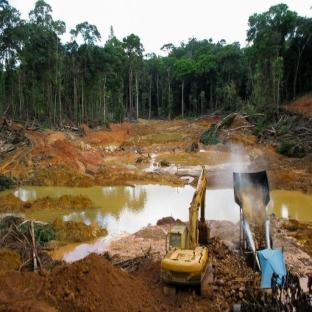ExcavationMachinery: (155, 164, 219, 300)
ProcessingEquipment: (231, 164, 292, 292)
